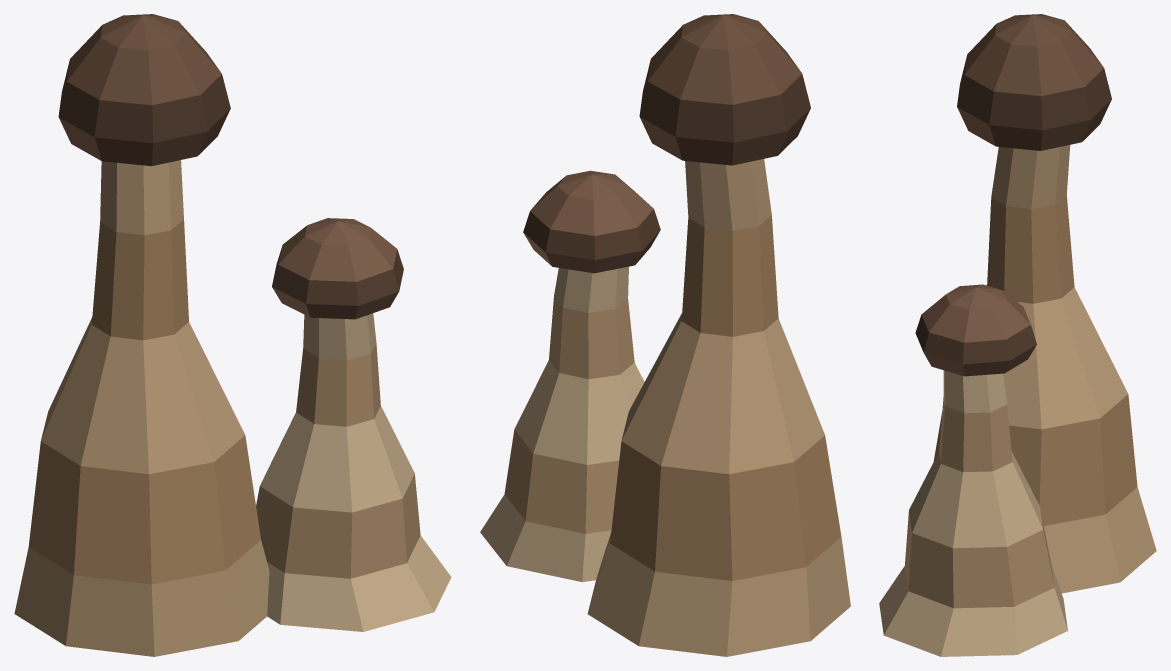
The model's file is chimney_b.glb.
3 views of the same model, side by side, from view 1: azimuth 30°, elevation 25°; view 2: azimuth 150°, elevation 25°; view 3: azimuth 270°, elevation 25° (orthographic). The views are drawn at different scales.
Visible parts, largest first — view 1: chimney_b; view 2: chimney_b; view 3: chimney_b.
Boxes of the visible parts, <box> form: chimney_b: <box>14,14,451,656</box>; chimney_b: <box>480,14,850,656</box>; chimney_b: <box>879,14,1156,656</box>.
Bounding box in the file's own units: 0.6706 × 1.03 × 0.4898.
